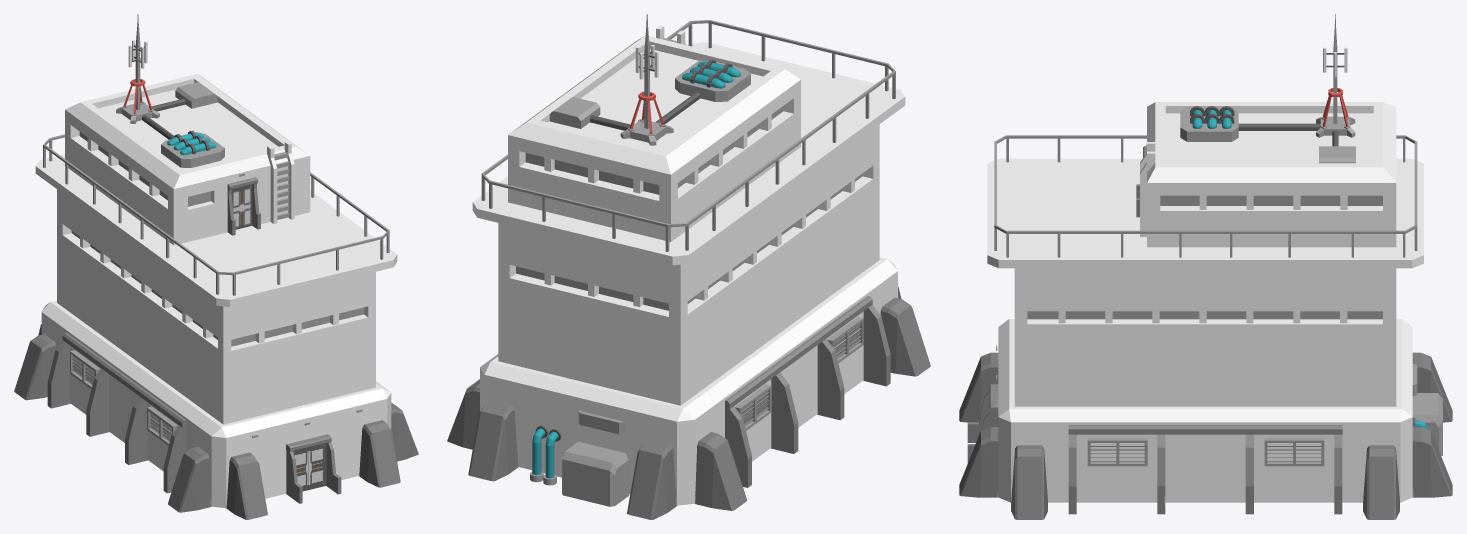
Rendered from Office Building_02.fbx.
3 views of the same model, side by side, from view 1: azimuth 30°, elevation 25°; view 2: azimuth 150°, elevation 25°; view 3: azimuth 270°, elevation 25° (orthographic). The views are drawn at different scales.
Visible parts, largest first — view 1: Mesh; view 2: Mesh; view 3: Mesh.
Part boxes in pixels (x1,y1,x2,y2): Mesh: (14, 14, 418, 519); Mesh: (447, 14, 930, 519); Mesh: (959, 14, 1452, 519).
Size of the model in its own units: 86.61 by 129 by 135.
Materials: 4 (2 with a texture image).
